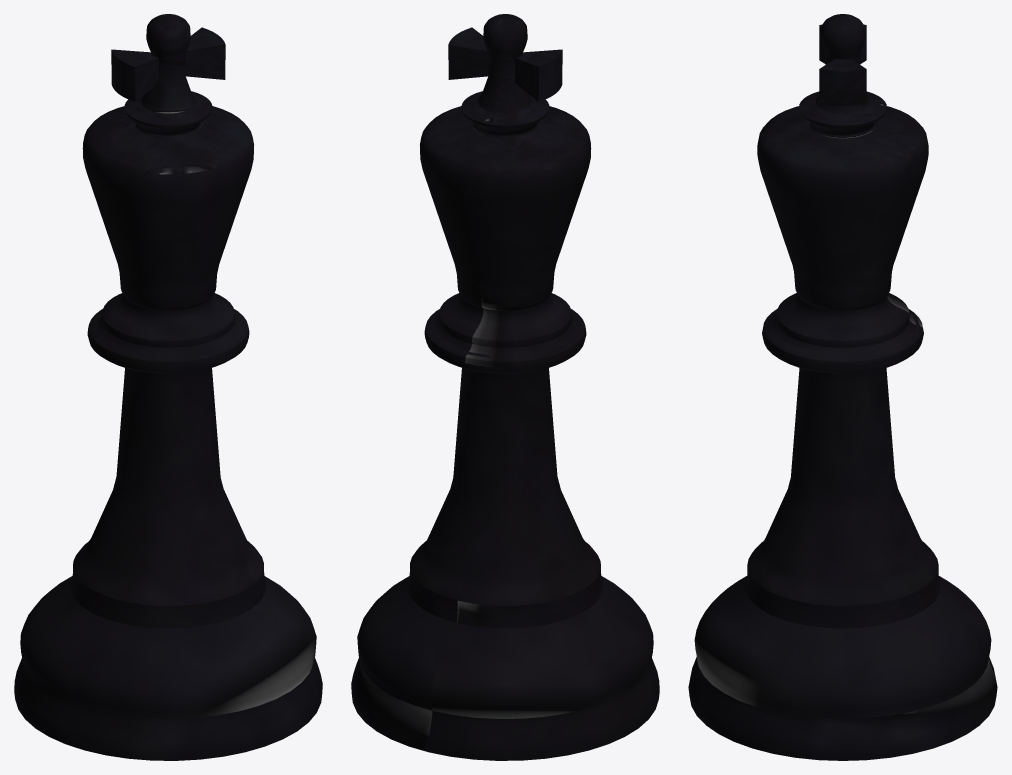
Rendered from rey_Negras.glb.
3 views of the same model, side by side, from view 1: azimuth 30°, elevation 25°; view 2: azimuth 150°, elevation 25°; view 3: azimuth 270°, elevation 25° (orthographic).
Parts seen in each view (by area): view 1: defaultMaterial.004; view 2: defaultMaterial.004; view 3: defaultMaterial.004.
Boxes of the visible parts, <box> form: defaultMaterial.004: <box>14,14,322,760</box>; defaultMaterial.004: <box>351,14,659,760</box>; defaultMaterial.004: <box>688,14,997,760</box>.
Size of the model in its own units: 0.8213 by 2.01 by 0.8213.
1 material, 1 textured.
